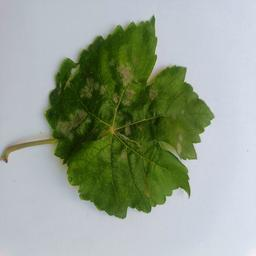Powdery-Mildew: (58, 106, 94, 140), (117, 90, 163, 108), (116, 136, 142, 166), (173, 125, 196, 158), (116, 63, 135, 88), (80, 82, 99, 101)
